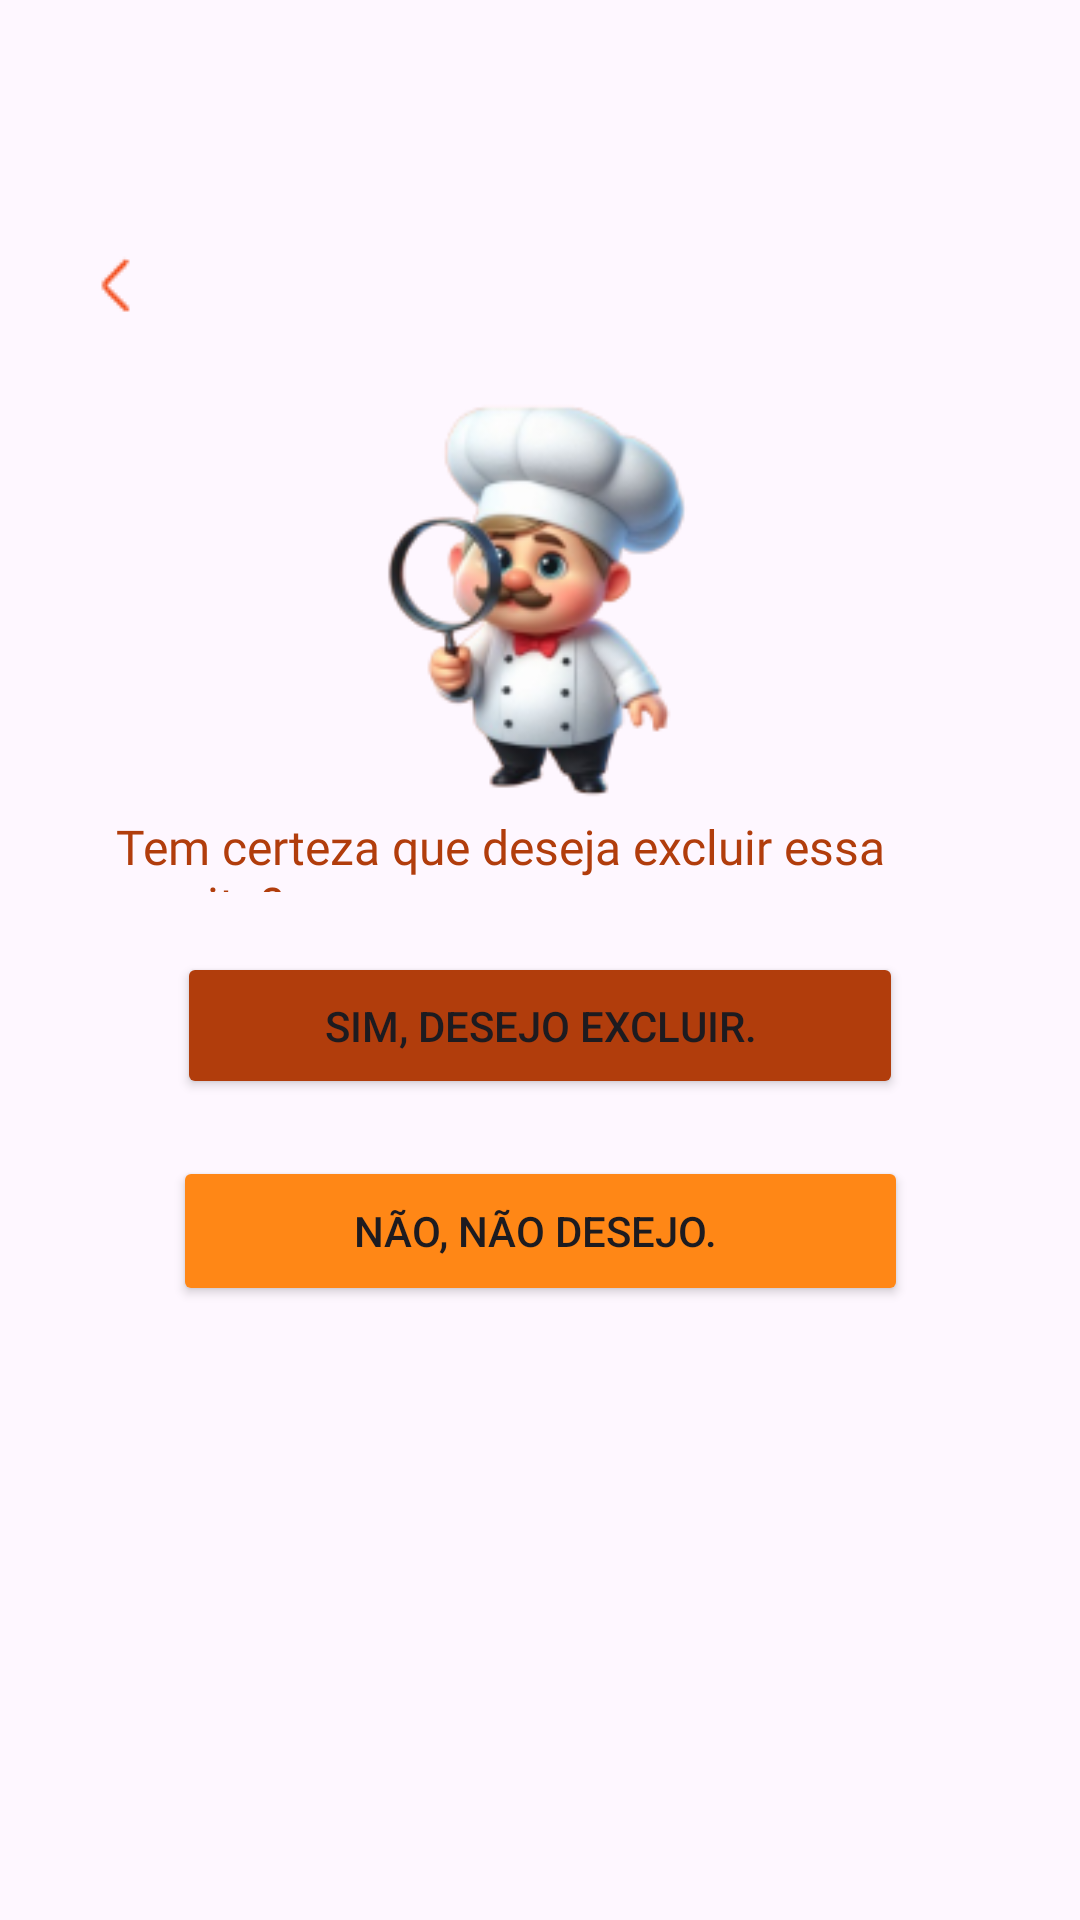

Screen size 1080x1920. Icon name, then its center in pixels as point (x, y):
setadesaida: point (115, 285)
